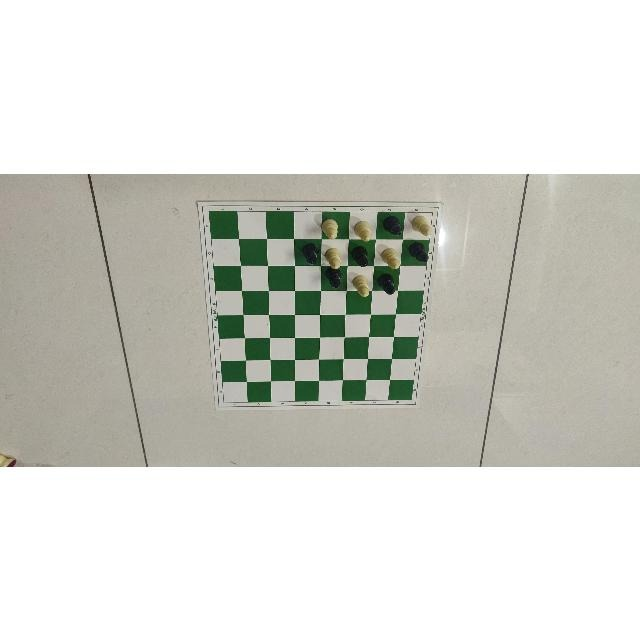black-bishop: (349, 244, 371, 268), (377, 271, 399, 295), (407, 242, 430, 264), (300, 241, 320, 265), (383, 214, 403, 238), (326, 269, 343, 289)
white-bishop: (317, 214, 341, 240), (407, 214, 433, 237), (379, 245, 402, 271), (351, 272, 370, 300), (353, 217, 373, 242), (322, 246, 344, 268)
